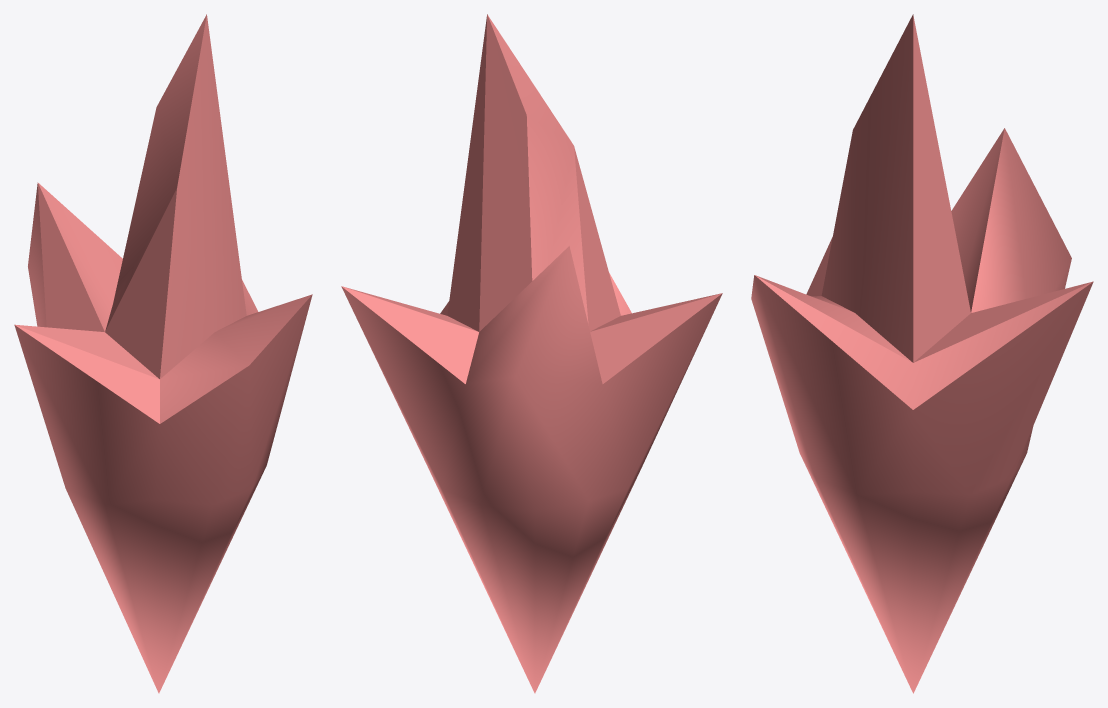
File: fbx_Foliage_Crystal.FBX
The picture shows the model from 3 angles, left to right: view 1: azimuth 30°, elevation 25°; view 2: azimuth 150°, elevation 25°; view 3: azimuth 270°, elevation 25°; orthographic projection. The views are drawn at different scales.
Parts seen in each view (by area): view 1: mesh_Foliiage_Crystal01; view 2: mesh_Foliiage_Crystal01; view 3: mesh_Foliiage_Crystal01.
Part boxes in pixels (x1=…): mesh_Foliiage_Crystal01: x1=14, y1=14, x2=312, y2=693; mesh_Foliiage_Crystal01: x1=341, y1=14, x2=722, y2=693; mesh_Foliiage_Crystal01: x1=751, y1=14, x2=1093, y2=693.
Size of the model in its own units: 12.11 by 27.57 by 12.15.
